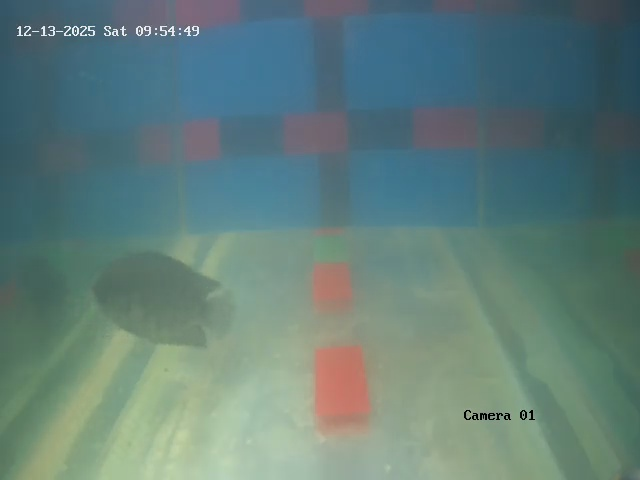fish: (85, 248, 231, 348)
